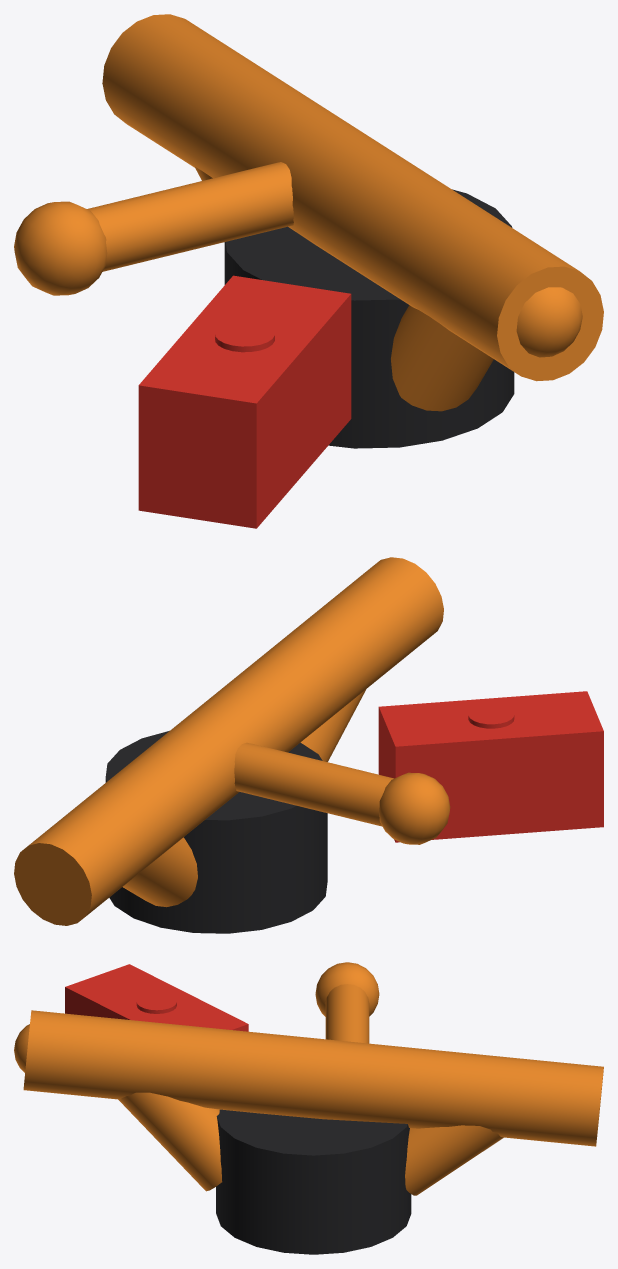
The model's file is rr_upright.gltf.
The picture shows the model from 3 angles, top to bottom: view 1: azimuth 30°, elevation 25°; view 2: azimuth 150°, elevation 25°; view 3: azimuth 270°, elevation 25°; orthographic projection. The views are drawn at different scales.
Parts seen in each view (by area): view 1: rr_upright; view 2: rr_upright; view 3: rr_upright.
Part boxes in pixels (bbox=[...]): rr_upright: bbox=[14, 14, 603, 528]; rr_upright: bbox=[14, 557, 603, 933]; rr_upright: bbox=[14, 962, 603, 1254].
Bounding box in the file's own units: 0.2273 × 0.1239 × 0.3503.
